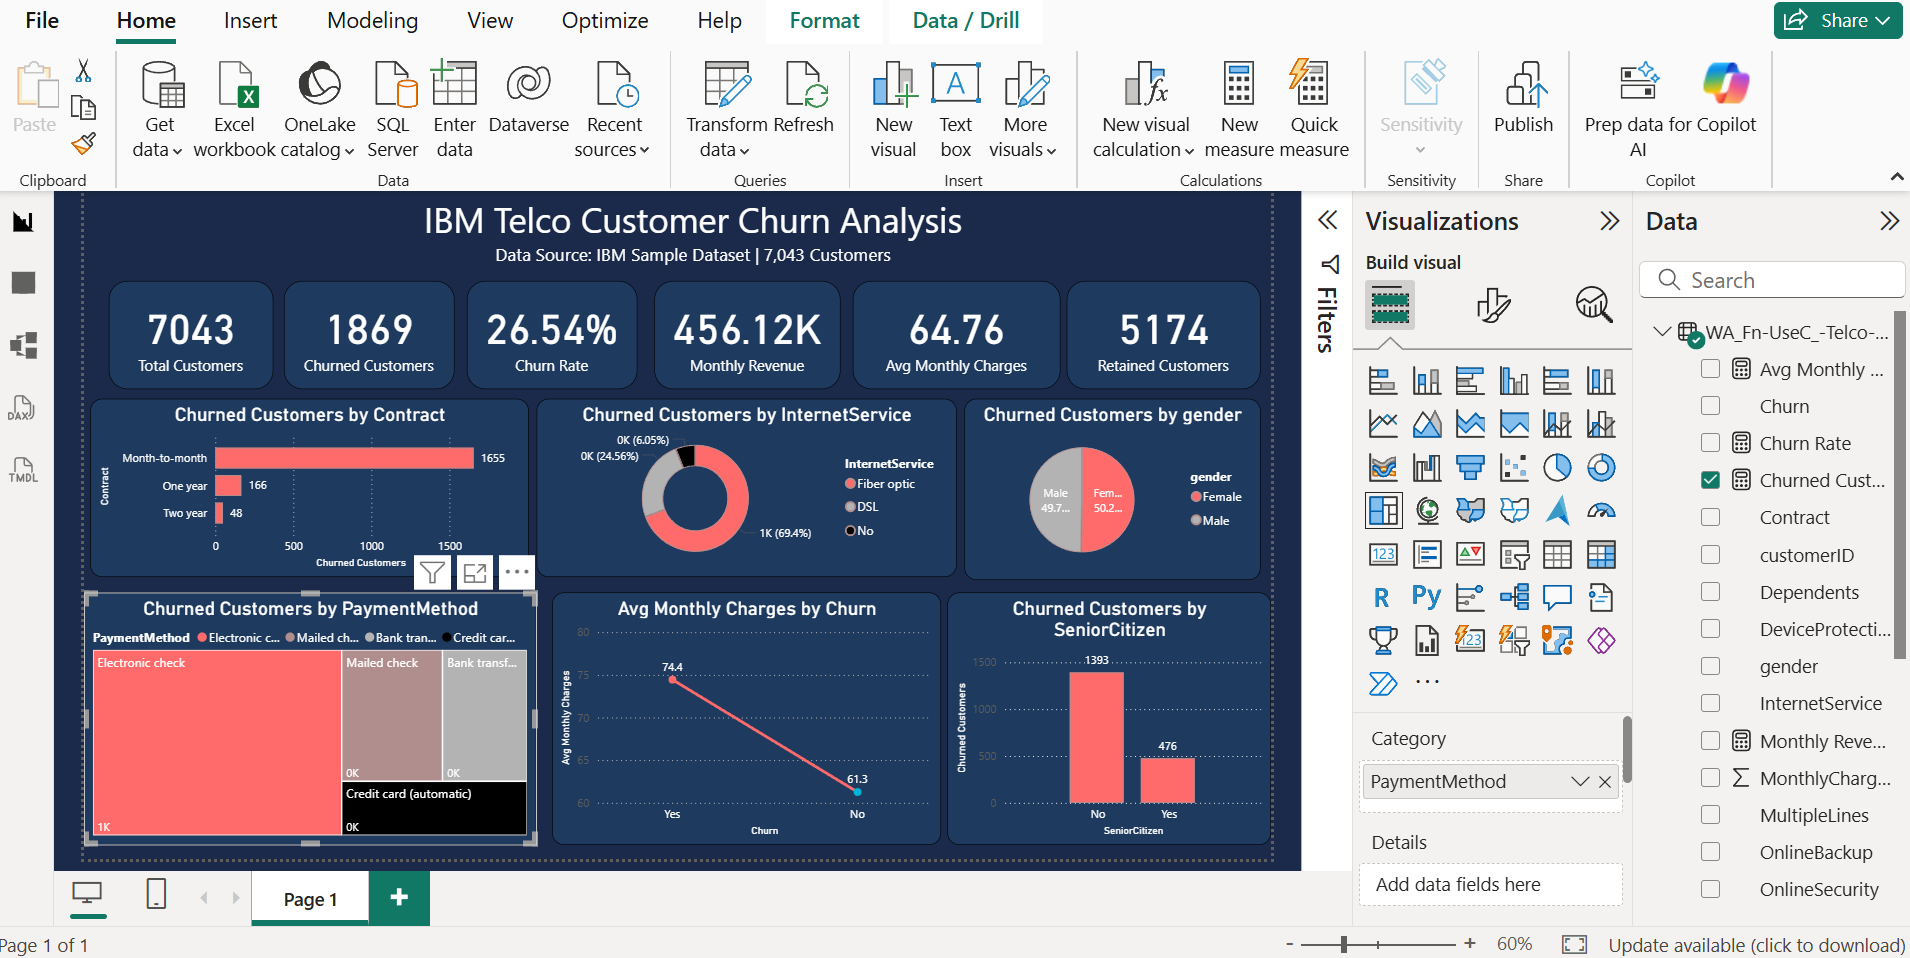

Layout of this report page (visuals, bound fields, positions):
{"tool":"powerbi","page":{"name":"Page 1","canvas":[1280,720],"ordinal":0},"visuals":[{"type":"card","fields":{"Values":["WA_Fn-UseC_-Telco-Customer-Churn.Total Customers"]},"box":[26.7,96.9,177.1,117],"z":0},{"type":"textbox","box":[106.9,0,1099.6,61.8],"z":1000},{"type":"textbox","box":[427.8,50.1,457.9,46.8],"z":2000},{"type":"card","fields":{"Values":["WA_Fn-UseC_-Telco-Customer-Churn.Monthly Revenue"]},"box":[615,96.9,200.5,117],"z":3000},{"type":"card","fields":{"Values":["WA_Fn-UseC_-Telco-Customer-Churn.Avg Monthly Charges"]},"box":[828.9,96.9,223.9,117],"z":4000},{"type":"card","fields":{"Values":["WA_Fn-UseC_-Telco-Customer-Churn.Retained Customers"]},"box":[1059.5,96.9,208.9,117],"z":5000},{"type":"card","fields":{"Values":["WA_Fn-UseC_-Telco-Customer-Churn.Churned Customers"]},"box":[215.6,96.9,183.8,117],"z":6000},{"type":"card","fields":{"Values":["WA_Fn-UseC_-Telco-Customer-Churn.Churn Rate"]},"box":[412.8,96.9,183.8,117],"z":7000},{"type":"clusteredBarChart","fields":{"Category":["WA_Fn-UseC_-Telco-Customer-Churn.Contract"],"Y":["WA_Fn-UseC_-Telco-Customer-Churn.Churned Customers"]},"box":[6.7,223.9,472.9,192.2],"z":8000},{"type":"donutChart","fields":{"Y":["WA_Fn-UseC_-Telco-Customer-Churn.Churned Customers"],"Category":["WA_Fn-UseC_-Telco-Customer-Churn.InternetService"]},"box":[488,223.9,452.9,192.2],"z":9000},{"type":"treemap","fields":{"Group":["WA_Fn-UseC_-Telco-Customer-Churn.PaymentMethod"],"Values":["WA_Fn-UseC_-Telco-Customer-Churn.Churned Customers"]},"box":[0,432.8,488,272.4],"z":10000},{"type":"donutChart","fields":{"Y":["WA_Fn-UseC_-Telco-Customer-Churn.Churned Customers"],"Category":["WA_Fn-UseC_-Telco-Customer-Churn.gender"]},"box":[949.2,223.9,319.2,195.5],"z":11000},{"type":"clusteredColumnChart","fields":{"Category":["WA_Fn-UseC_-Telco-Customer-Churn.SeniorCitizen"],"Y":["WA_Fn-UseC_-Telco-Customer-Churn.Churned Customers"]},"box":[930.8,432.8,349.3,272.4],"z":11001},{"type":"lineChart","fields":{"Category":["WA_Fn-UseC_-Telco-Customer-Churn.Churn"],"Y":["WA_Fn-UseC_-Telco-Customer-Churn.Avg Monthly Charges"]},"box":[504.7,432.8,419.4,272.4],"z":11002}]}

Visuals, with their boxes on the page's 1280x720 design canvas (x1, y1, x2, y2). These are canvas units, not pixel positions in the 1910x958 screenshot, which may show the page scaled, cropped or inside an application window:
card - WA_Fn-UseC_-Telco-Customer-Churn.Total Customers: l=27, t=97, r=204, b=214
textbox: l=107, t=0, r=1206, b=62
textbox: l=428, t=50, r=886, b=97
card - WA_Fn-UseC_-Telco-Customer-Churn.Monthly Revenue: l=615, t=97, r=816, b=214
card - WA_Fn-UseC_-Telco-Customer-Churn.Avg Monthly Charges: l=829, t=97, r=1053, b=214
card - WA_Fn-UseC_-Telco-Customer-Churn.Retained Customers: l=1060, t=97, r=1268, b=214
card - WA_Fn-UseC_-Telco-Customer-Churn.Churned Customers: l=216, t=97, r=399, b=214
card - WA_Fn-UseC_-Telco-Customer-Churn.Churn Rate: l=413, t=97, r=597, b=214
clusteredBarChart - WA_Fn-UseC_-Telco-Customer-Churn.Contract x WA_Fn-UseC_-Telco-Customer-Churn.Churned Customers: l=7, t=224, r=480, b=416
donutChart - WA_Fn-UseC_-Telco-Customer-Churn.Churned Customers x WA_Fn-UseC_-Telco-Customer-Churn.InternetService: l=488, t=224, r=941, b=416
treemap - WA_Fn-UseC_-Telco-Customer-Churn.PaymentMethod x WA_Fn-UseC_-Telco-Customer-Churn.Churned Customers: l=0, t=433, r=488, b=705
donutChart - WA_Fn-UseC_-Telco-Customer-Churn.Churned Customers x WA_Fn-UseC_-Telco-Customer-Churn.gender: l=949, t=224, r=1268, b=419
clusteredColumnChart - WA_Fn-UseC_-Telco-Customer-Churn.SeniorCitizen x WA_Fn-UseC_-Telco-Customer-Churn.Churned Customers: l=931, t=433, r=1280, b=705
lineChart - WA_Fn-UseC_-Telco-Customer-Churn.Churn x WA_Fn-UseC_-Telco-Customer-Churn.Avg Monthly Charges: l=505, t=433, r=924, b=705
